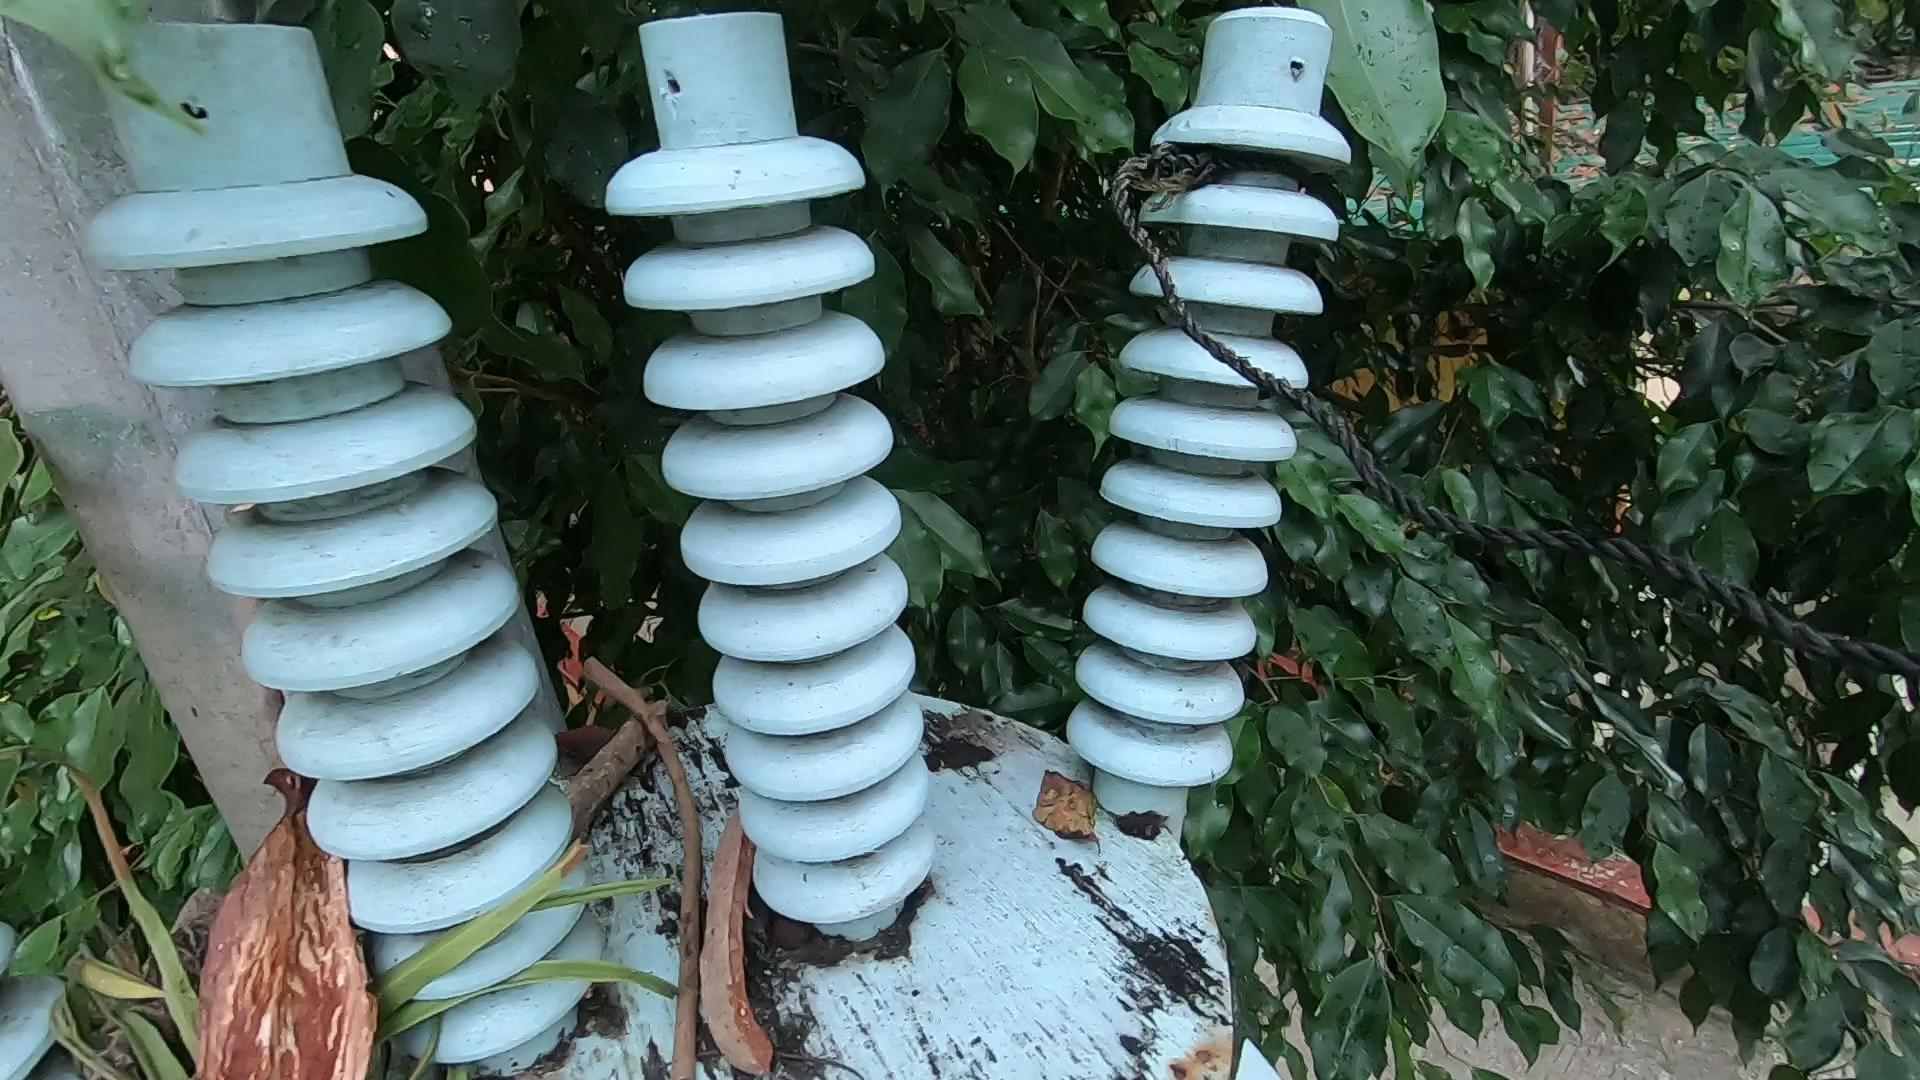branch with leaves: (102, 655, 702, 1080)
leaf: (1036, 760, 1126, 876)
mahogany fruit: (206, 773, 411, 1019), (695, 794, 810, 1076)
tree branch: (583, 646, 753, 1080)
